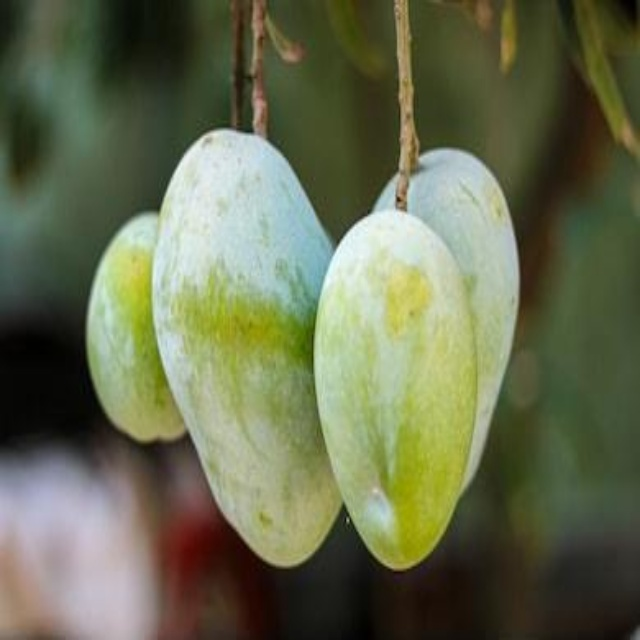mango: (154, 131, 341, 582), (316, 138, 505, 569), (87, 206, 195, 451)
